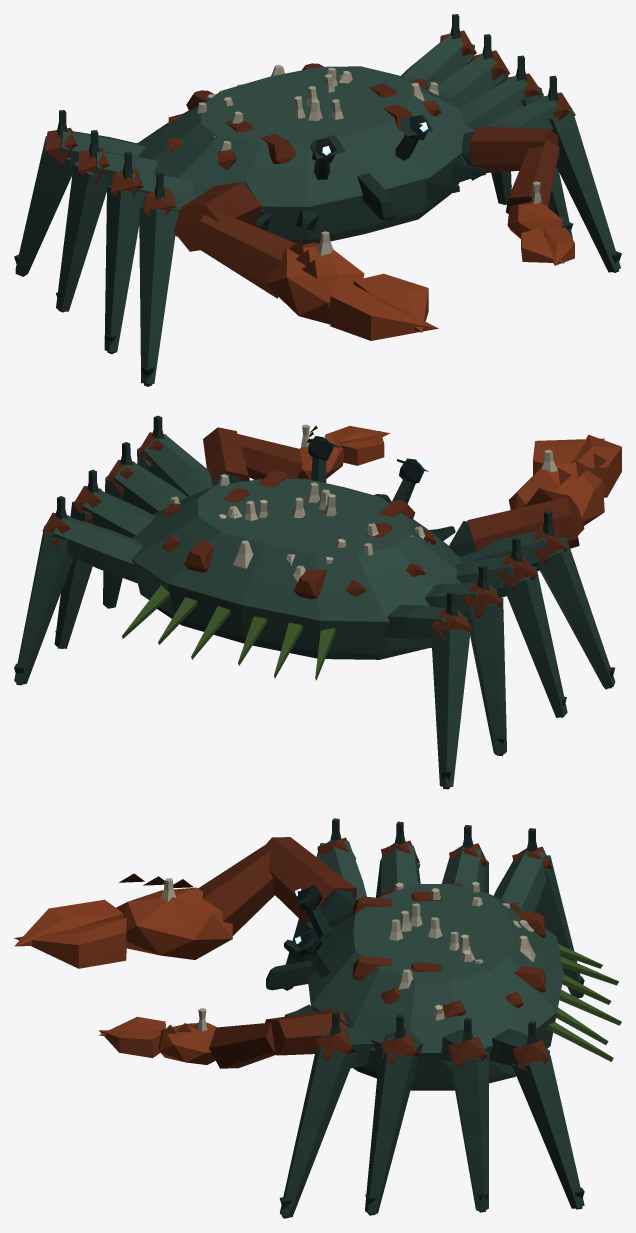
File: crab.glb
3 renders of one model, top to bottom at view 1: azimuth 30°, elevation 25°; view 2: azimuth 150°, elevation 25°; view 3: azimuth 270°, elevation 25°, orthographic.
Parts seen in each view (by area): view 1: body, clawR, tipR1, clawL, tipR2, tipL1, tipR3, armL, tipR4, armR, legL2, legL3 (+12 smaller); view 2: body, clawR, tipR4, tipR3, tipL4, tipR1, legL4, armR, clawL, tipR2, legR4, legL1 (+12 smaller); view 3: body, clawR, clawL, tipL1, armR, tipL2, tipL4, tipL3, pinchR, legR4, armL, legL4 (+10 smaller).
Boxes of the visible parts, <box> form: body: <box>137,63,485,244</box>; clawR: <box>191,210,438,340</box>; tipR1: <box>139,207,178,386</box>; clawL: <box>506,139,574,265</box>; tipR2: <box>104,185,144,354</box>; tipL1: <box>549,107,621,272</box>; tipR3: <box>56,161,109,312</box>; armL: <box>461,126,559,172</box>; tipR4: <box>14,136,73,276</box>; armR: <box>173,181,265,251</box>; legL2: <box>459,55,543,130</box>; legL3: <box>437,34,510,105</box>; body: <box>122,470,462,680</box>; clawR: <box>509,434,621,535</box>; tipR4: <box>431,627,470,789</box>; tipR3: <box>467,597,506,756</box>; tipL4: <box>14,525,73,685</box>; tipR1: <box>537,537,615,689</box>; legL4: <box>42,496,143,583</box>; armR: <box>449,497,579,556</box>; clawL: <box>237,424,389,479</box>; tipR2: <box>502,566,567,717</box>; legR4: <box>382,591,472,648</box>; legL1: <box>139,415,213,496</box>; body: <box>266,881,621,1090</box>; clawR: <box>14,845,274,959</box>; clawL: <box>99,1008,274,1068</box>; tipL1: <box>279,1046,355,1218</box>; armR: <box>256,837,356,927</box>; tipL2: <box>365,1047,419,1215</box>; tipL4: <box>512,1053,584,1209</box>; tipL3: <box>449,1051,488,1212</box>; pinchR: <box>14,917,126,968</box>; legR4: <box>493,828,552,912</box>; armL: <box>265,1010,354,1055</box>; legL4: <box>489,1021,549,1075</box>.
Size of the model in its own units: 1.56 by 0.598 by 1.7.
